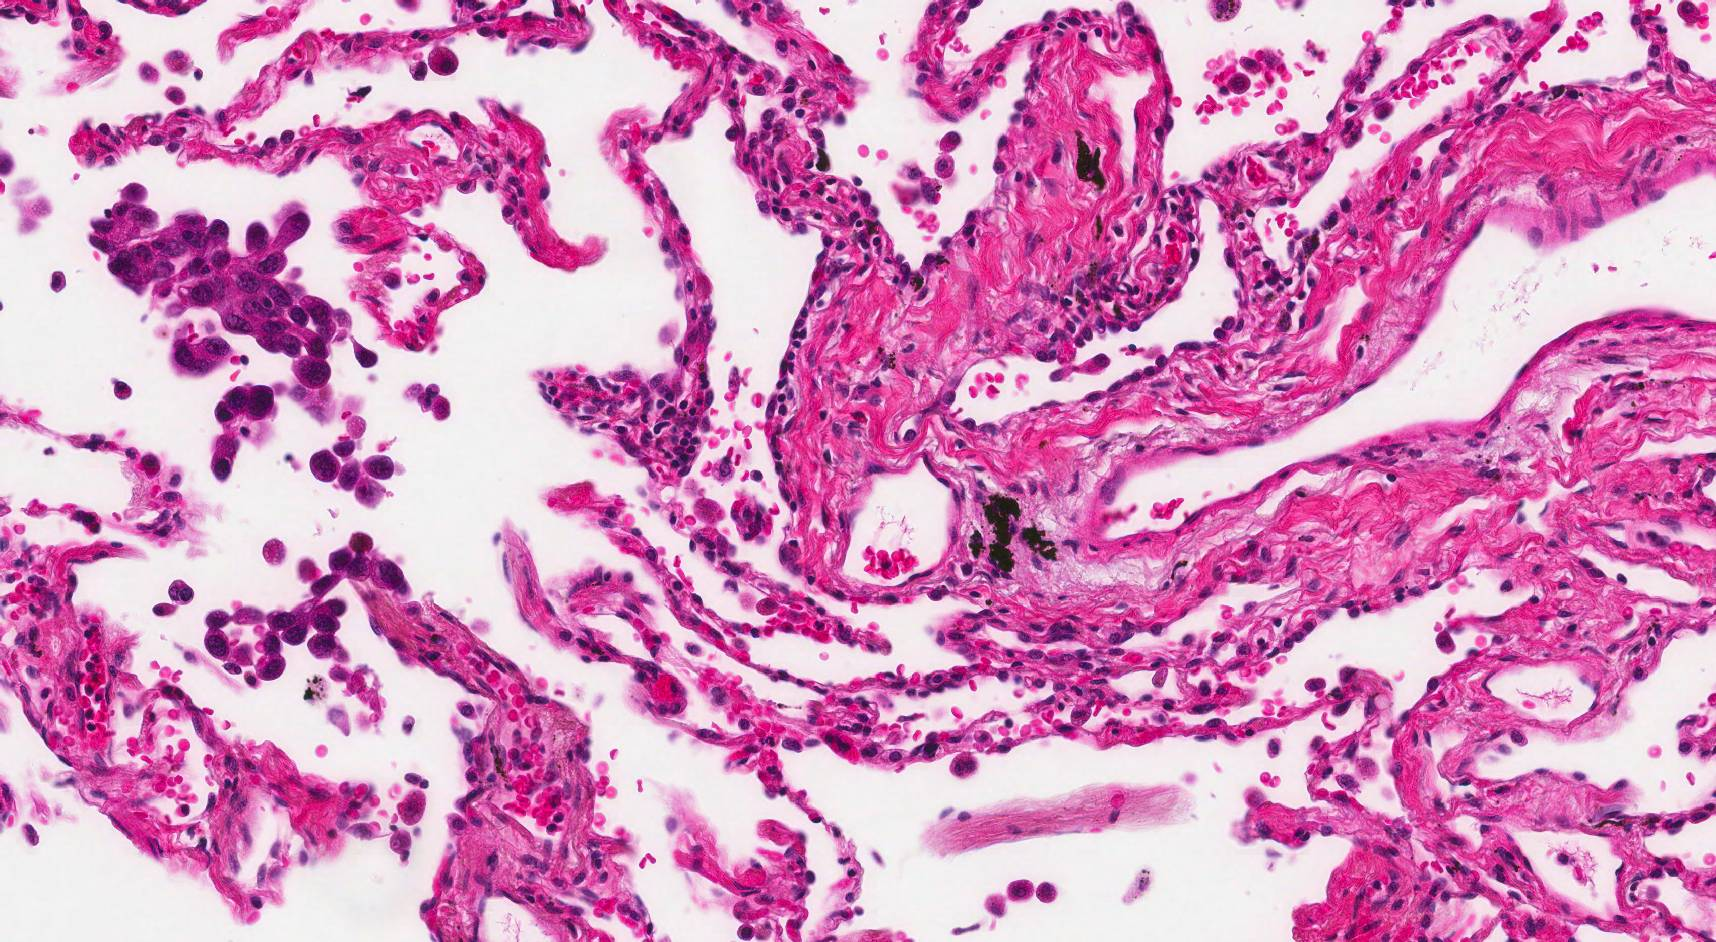stas: (87, 182, 377, 384), (207, 533, 411, 688), (306, 431, 402, 511), (209, 381, 276, 484)
